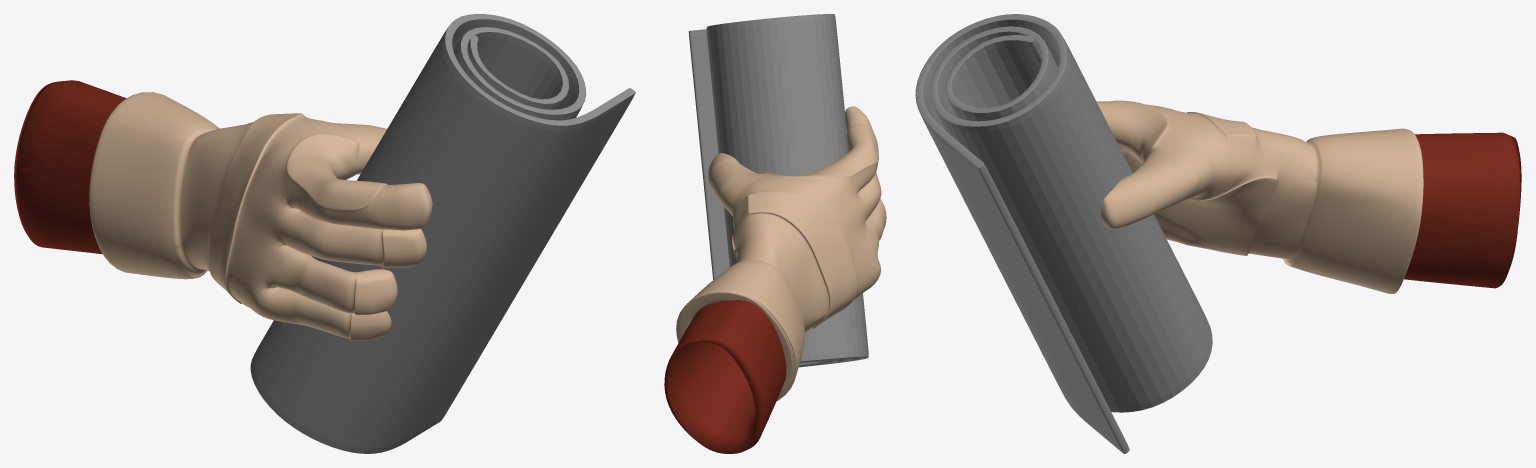
The model's file is glove-with-isolation-mat.fbx.
The picture shows the model from 3 angles, left to right: view 1: azimuth 30°, elevation 25°; view 2: azimuth 150°, elevation 25°; view 3: azimuth 270°, elevation 25°; orthographic projection. The views are drawn at different scales.
Parts seen in each view (by area): view 1: Plane_Plane.001, WorkGloves_RightWorkGloves, gloves.001_Cube.001; view 2: Plane_Plane.001, WorkGloves_RightWorkGloves, gloves.001_Cube.001; view 3: Plane_Plane.001, WorkGloves_RightWorkGloves, gloves.001_Cube.001.
Boxes of the visible parts, x1,y1,x2,y2 form: Plane_Plane.001: (250, 14, 635, 453); WorkGloves_RightWorkGloves: (89, 92, 432, 340); gloves.001_Cube.001: (14, 80, 174, 254); Plane_Plane.001: (688, 14, 868, 367); WorkGloves_RightWorkGloves: (676, 106, 886, 400); gloves.001_Cube.001: (664, 300, 786, 453); Plane_Plane.001: (915, 14, 1212, 453); WorkGloves_RightWorkGloves: (1096, 100, 1423, 293); gloves.001_Cube.001: (1404, 132, 1521, 288).
Size of the model in its own units: 852 by 988 by 1296.
